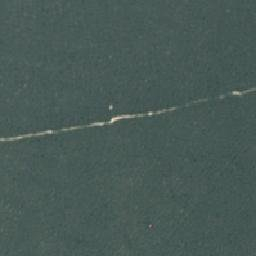debris: (1, 120, 106, 142), (107, 103, 169, 126), (171, 97, 205, 110), (221, 88, 256, 97)
